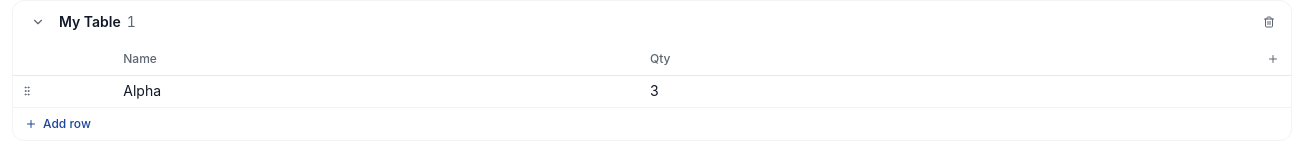
it: NamedTable text cell › Enter commits the new value via updateRow.mutate and exits edit mode
The width and height of the screenshot is (1304, 160).
Double-click the text "Alpha" at [142, 90], box [123,82,161,99]
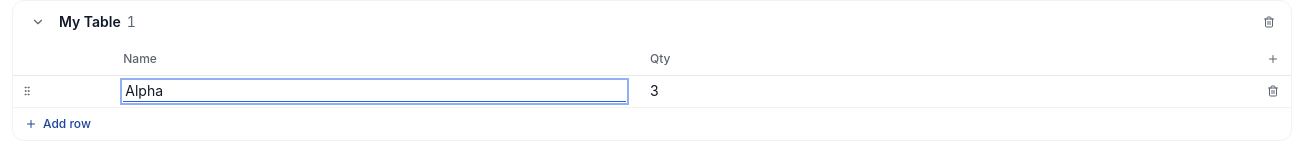
Replace the text in the field showing "Alpha" with "Beta" at [375, 91], box [123,80,626,102]
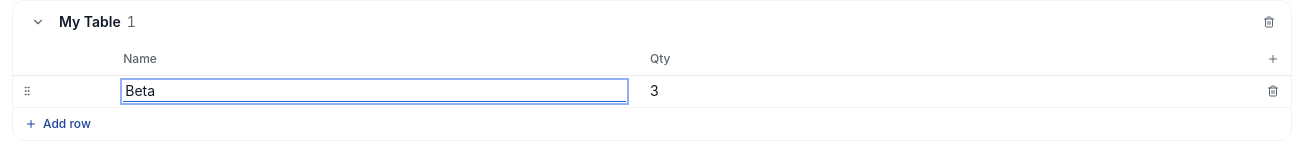
Press Enter in the field showing "Alpha", box [123,80,626,102]
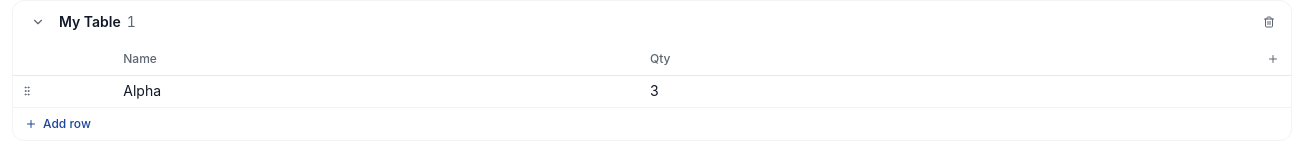
Expected: the field showing "Beta" is not shown
Expected: the text "Alpha" is shown, [123,82,161,99]
